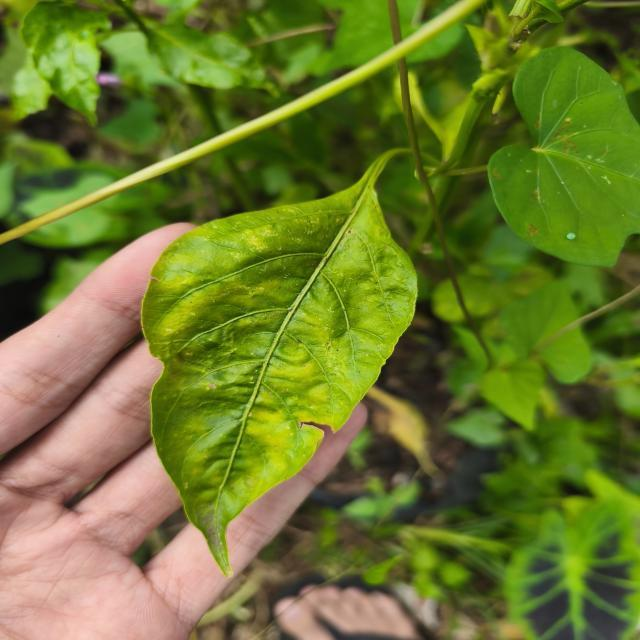Virus Kuning: (139, 183, 420, 578)
